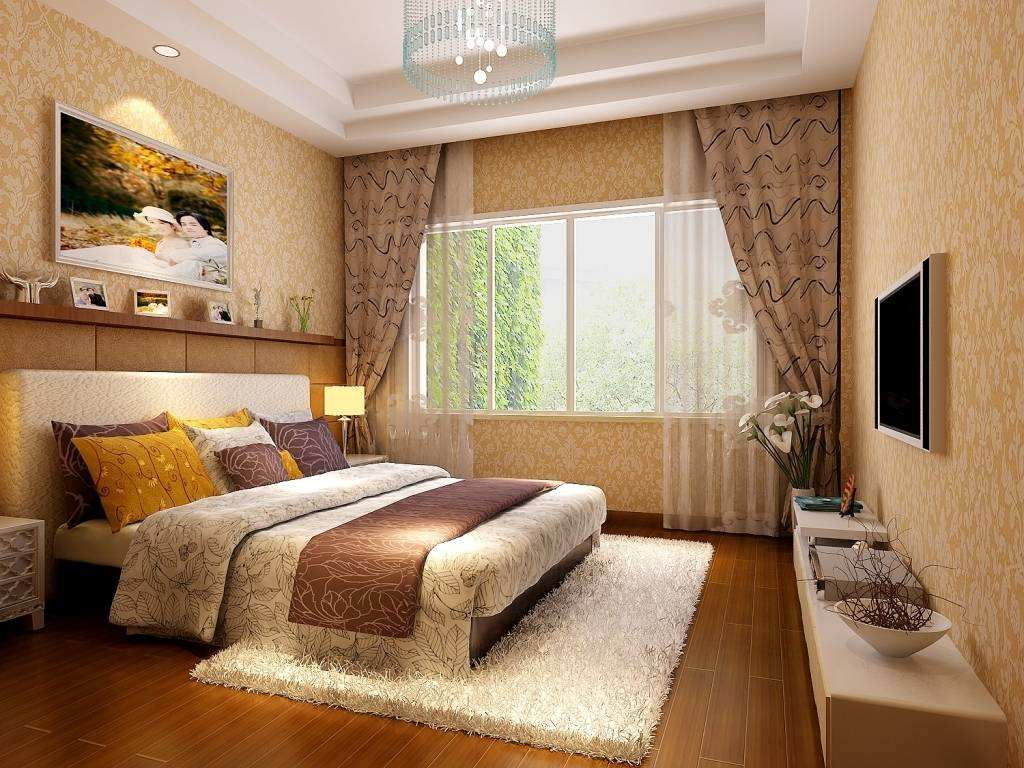床: (88, 466, 612, 673)
枕头: (65, 406, 338, 523)
灯: (408, 3, 560, 100), (316, 380, 369, 459), (150, 44, 185, 61)
